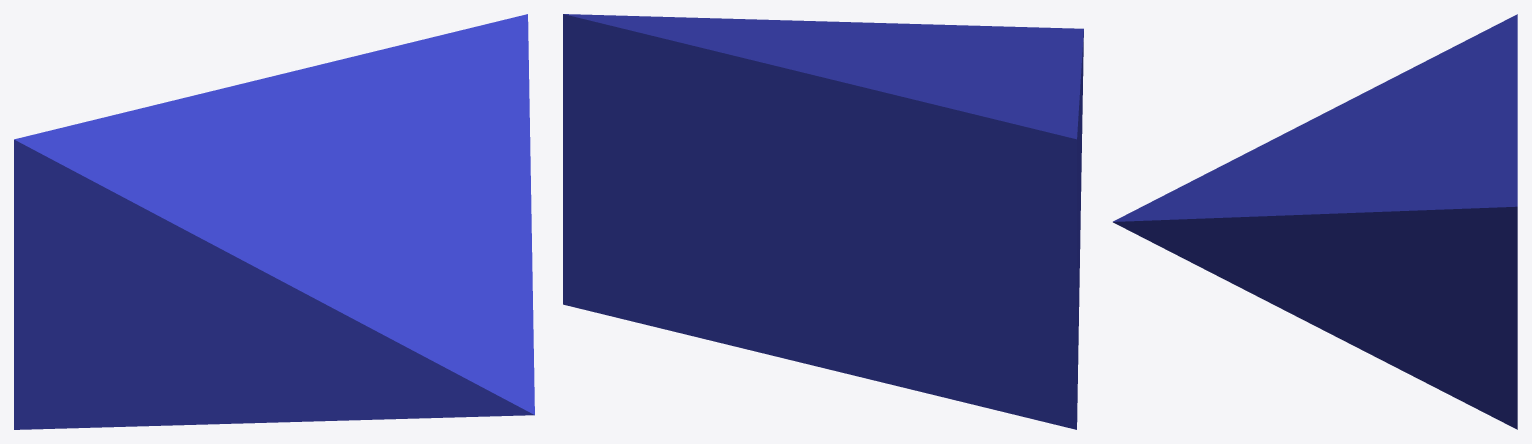
The model's file is visionCone.fbx.
The picture shows the model from 3 angles, left to right: view 1: azimuth 30°, elevation 25°; view 2: azimuth 150°, elevation 25°; view 3: azimuth 270°, elevation 25°; orthographic projection. The views are drawn at different scales.
Parts seen in each view (by area): view 1: root; view 2: root; view 3: root.
Boxes of the visible parts, box(x1,y1,x2,y2) form: root: box(14, 14, 534, 429); root: box(563, 14, 1083, 429); root: box(1113, 14, 1517, 429).
Size of the model in its own units: 0.4399 by 0.2376 by 0.3913.
